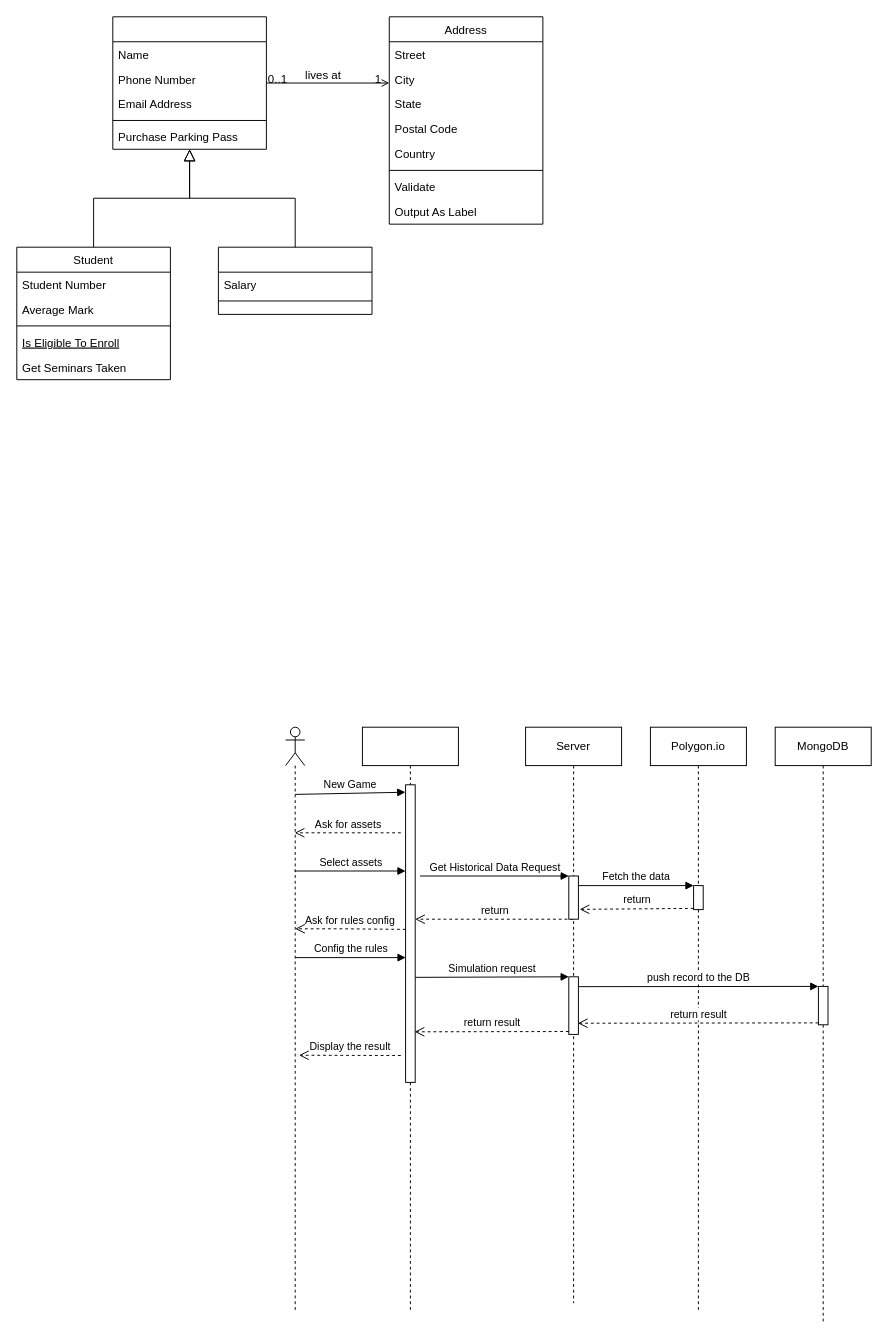
This 888x1339 diagram has some shape labels left out. Each missing label, with the box of its shape:
Person: (112, 16, 266, 149)
Professor: (217, 246, 372, 314)
Web App: (361, 726, 458, 1313)
